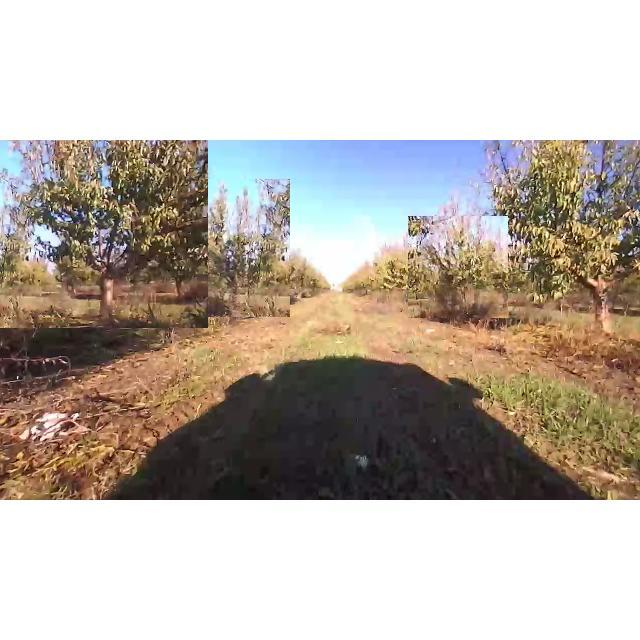direk: (0, 140, 208, 328), (454, 143, 638, 339), (174, 179, 290, 317), (408, 216, 508, 318)
